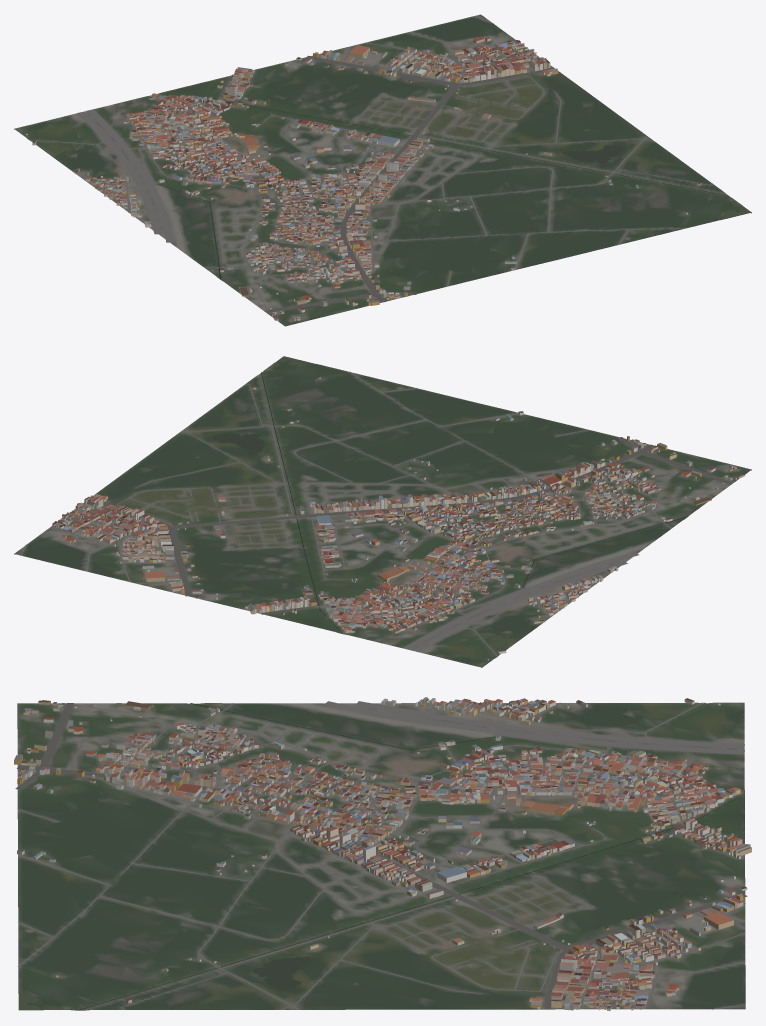
3 views of the same model, one above another, from view 1: azimuth 30°, elevation 25°; view 2: azimuth 150°, elevation 25°; view 3: azimuth 270°, elevation 25° (orthographic). The views are drawn at different scales.
Parts seen in each view (by area): view 1: ground, buildings, roads, water; view 2: ground, buildings, roads, water; view 3: ground, buildings, roads, water.
Part boxes in pixels (<box>): ground: <box>14,14,751,326</box>; buildings: <box>25,36,701,321</box>; roads: <box>29,16,712,314</box>; water: <box>28,76,750,279</box>; ground: <box>14,356,751,667</box>; buildings: <box>52,377,745,660</box>; roads: <box>20,372,735,656</box>; water: <box>213,356,687,660</box>; ground: <box>17,702,745,1010</box>; buildings: <box>14,697,751,1010</box>; roads: <box>15,701,747,1009</box>; water: <box>19,702,744,1010</box>.
Bounding box in the file's own units: 1415 × 31.08 × 1423.
